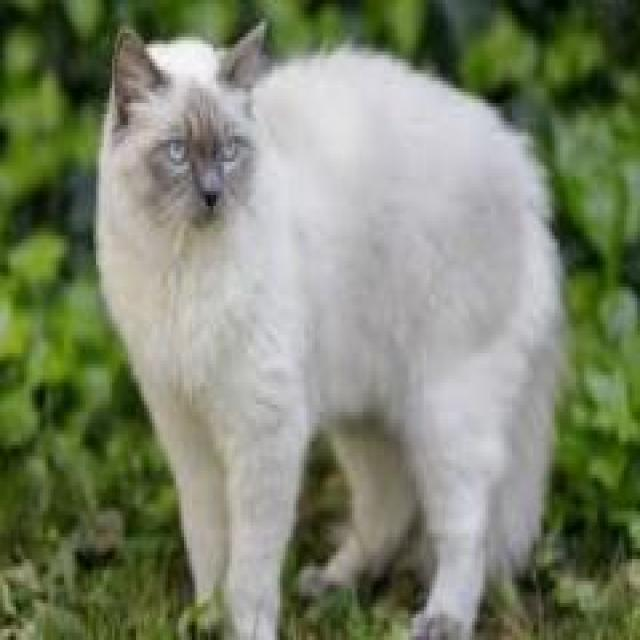Gato: (90, 7, 570, 640)
